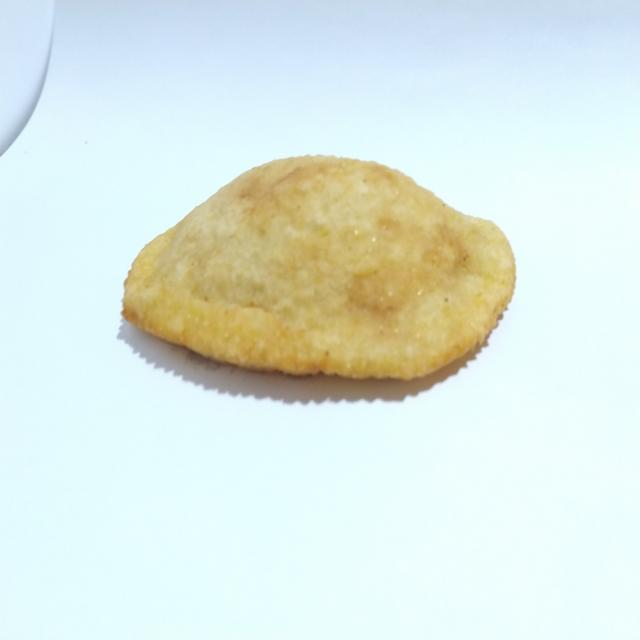Pastel_Mandio: (109, 150, 525, 406)
